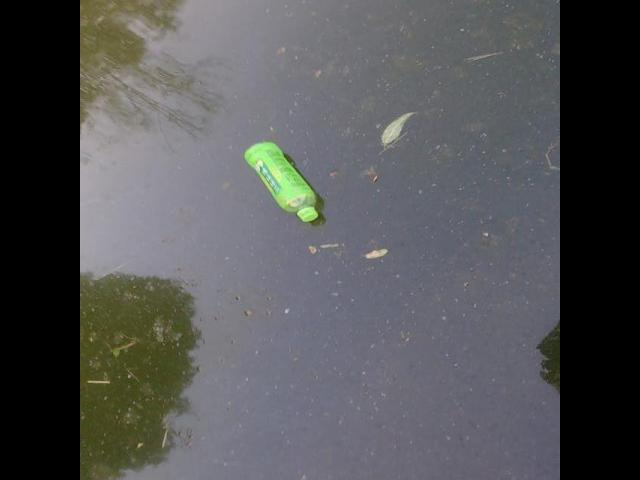Bottle: (242, 136, 326, 229)
